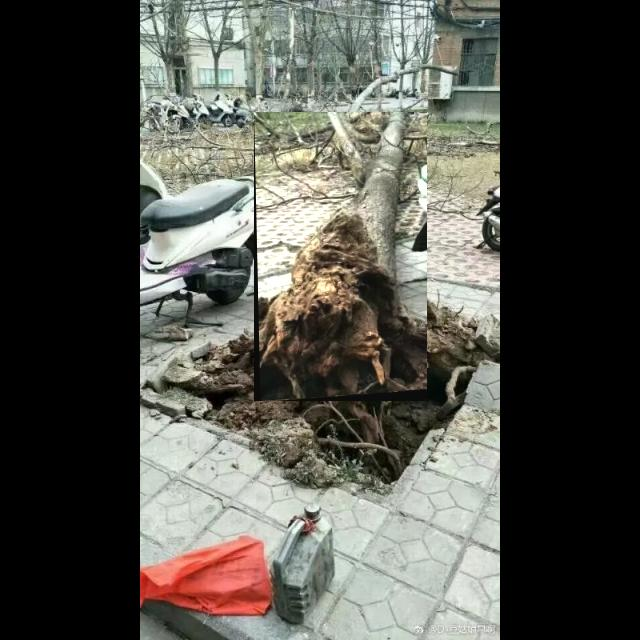Fallen Tree: (254, 112, 428, 402)
